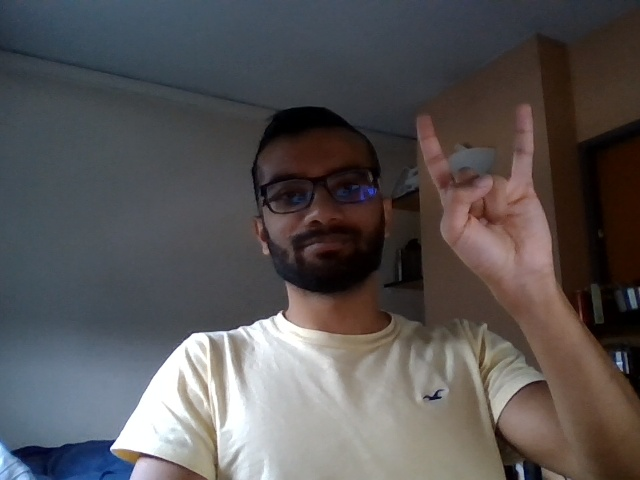I Love You: (392, 97, 572, 290)
